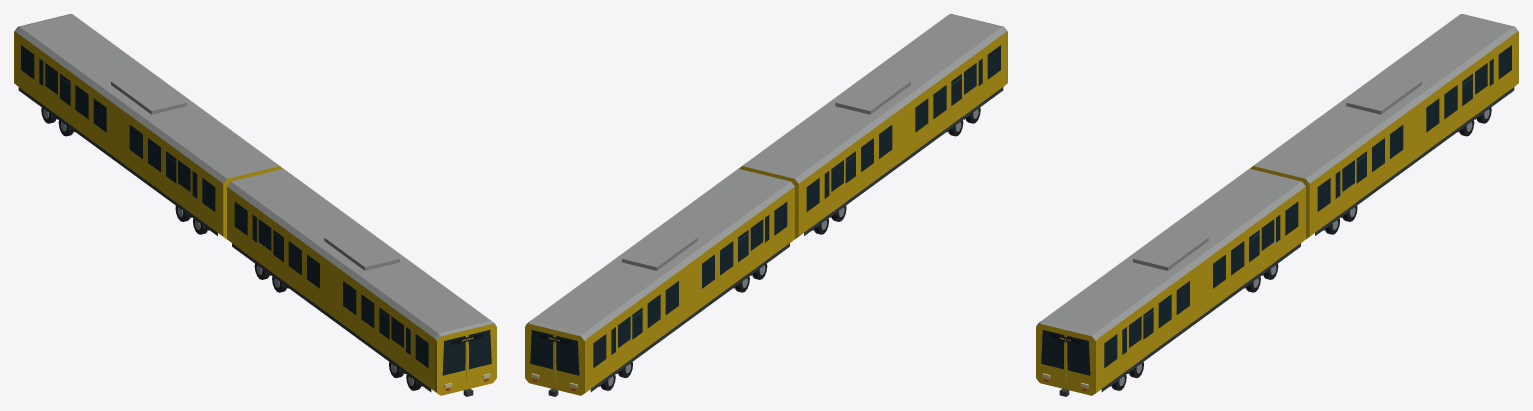
Rendered from ubahn-f.glb.
3 views of the same model, side by side, from view 1: azimuth 30°, elevation 25°; view 2: azimuth 150°, elevation 25°; view 3: azimuth 330°, elevation 25° (orthographic).
Parts seen in each view (by area): view 1: ubahn-f.segment-01.005, ubahn-f.segment-02.005; view 2: ubahn-f.segment-02.005, ubahn-f.segment-01.005; view 3: ubahn-f.segment-01.005, ubahn-f.segment-02.005.
Part boxes in pixels (box(x1,y1,x2,y2)): ubahn-f.segment-01.005: box(227, 168, 496, 396); ubahn-f.segment-02.005: box(14, 14, 282, 239); ubahn-f.segment-02.005: box(525, 168, 794, 396); ubahn-f.segment-01.005: box(739, 14, 1007, 239); ubahn-f.segment-01.005: box(1036, 168, 1305, 396); ubahn-f.segment-02.005: box(1250, 14, 1518, 239).
Size of the model in its own units: 2.7 by 3.36 by 32.54.
